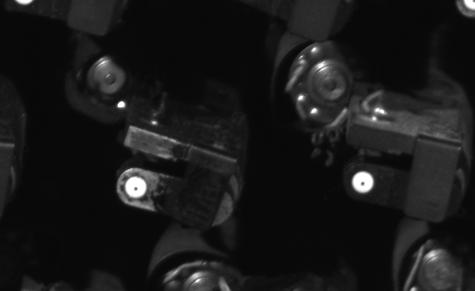fiber: (123, 172, 153, 204), (347, 170, 377, 197)
